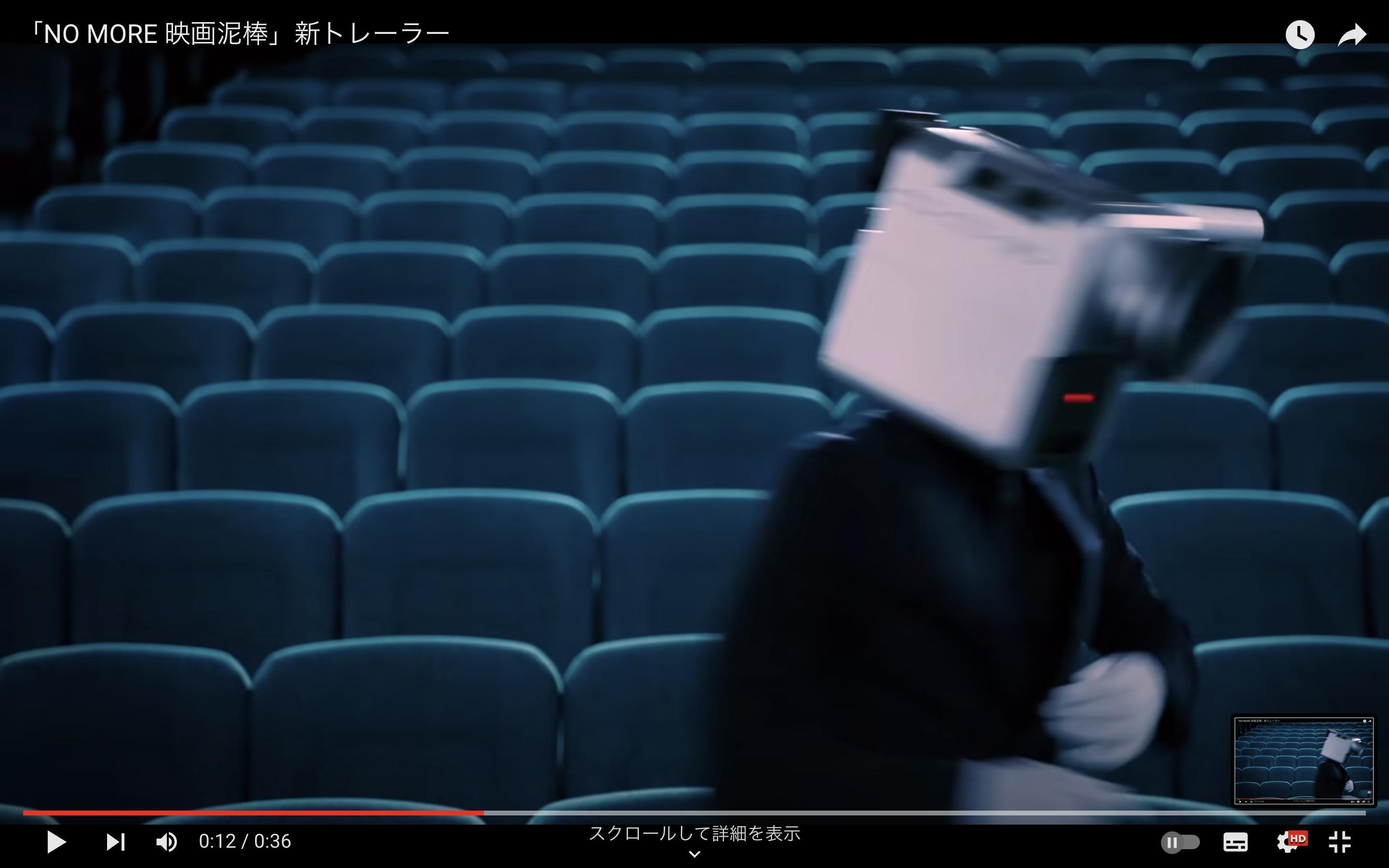no more kid: (802, 92, 1290, 497)
